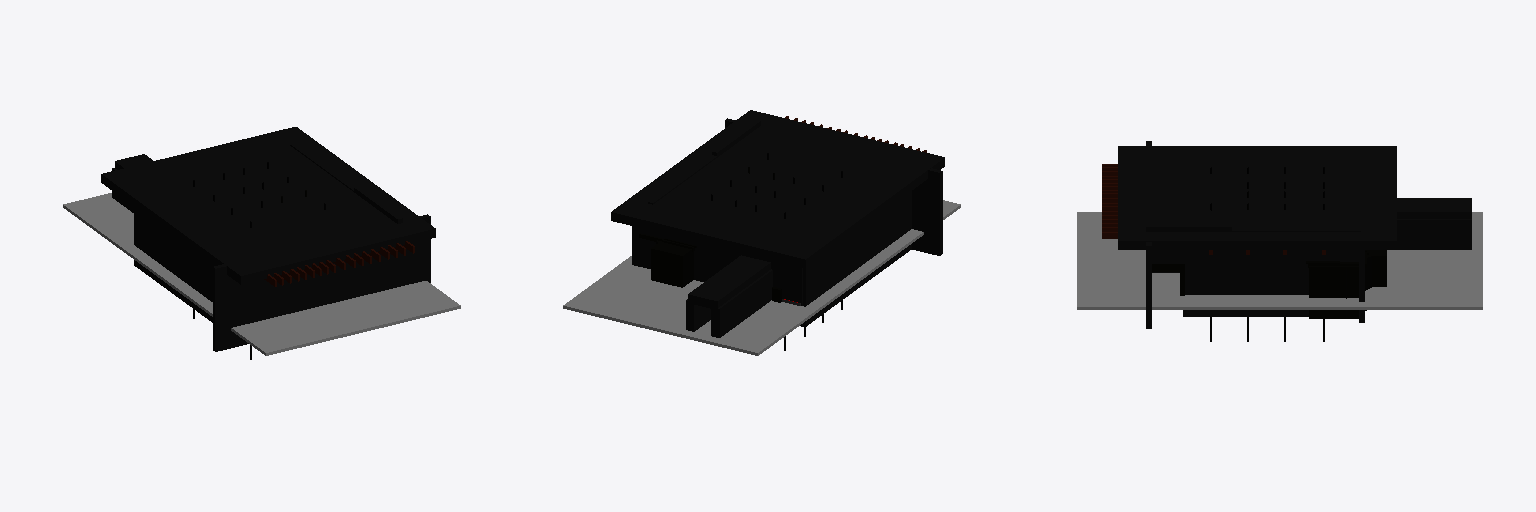
The model's file is Fleece.obj.
The picture shows the model from 3 angles: view 1: azimuth 30°, elevation 25°; view 2: azimuth 150°, elevation 25°; view 3: azimuth 270°, elevation 25°; orthographic projection.
Visible parts, largest first — view 1: pasted__pCube37 group120, pasted__pasted__pCube37 pasted__group120 group146, pasted__pasted__pCube36 pasted__group group1, pasted__pCube37 group2, pasted__pasted__pasted__pasted__pasted__Stage pasted__pasted__pa; view 2: pasted__pCube37 group120, pasted__pasted__pCube37 pasted__group120 group146, pasted__pCube37 group2, pasted__pasted__pCube36 pasted__group group1, pasted__pasted__pasted__pasted__pasted__pasted__pasted__pasted__, pasted__pasted__pasted__pasted__pasted__pasted__Stage pasted__pa, pasted__pCube36 group, pasted__pasted__pasted__pasted__Stage pasted__pasted__pasted__gr, pasted__pasted__pCube36 pasted__group group3, pasted__pasted__pasted__pasted__pasted__pasted__pasted__Stage pa; view 3: pasted__pCube37 group120, pasted__pasted__pCube37 pasted__group120 group146, pCube37, pasted__pasted__pasted__pasted__pasted__Stage pasted__pasted__pa, pasted__pasted__pasted__pasted__pasted__pasted__pasted__Stage pa, pasted__pasted__pasted__pasted__pasted__pasted__pasted__pasted__, pasted__pCube37 group5, pasted__pasted__pasted__pasted__Stage pasted__pasted__pasted__gr, pasted__pasted__pCube36 pasted__group group1.
Boxes of the visible parts, x1,y1,x2,y2 form: pasted__pCube37 group120: [101, 127, 435, 284]; pasted__pasted__pCube37 pasted__group120 group146: [63, 193, 460, 355]; pasted__pasted__pCube36 pasted__group group1: [213, 214, 430, 351]; pasted__pCube37 group2: [134, 207, 213, 322]; pasted__pasted__pasted__pasted__pasted__Stage pasted__pasted__pa: [274, 249, 380, 285]; pasted__pCube37 group120: [611, 110, 944, 267]; pasted__pasted__pCube37 pasted__group120 group146: [563, 200, 960, 355]; pasted__pCube37 group2: [803, 191, 911, 326]; pasted__pasted__pCube36 pasted__group group1: [725, 118, 942, 255]; pasted__pasted__pasted__pasted__pasted__pasted__pasted__pasted__: [688, 255, 770, 309]; pasted__pasted__pasted__pasted__pasted__pasted__Stage pasted__pa: [639, 122, 813, 337]; pasted__pCube36 group: [632, 226, 747, 281]; pasted__pasted__pasted__pasted__Stage pasted__pasted__pasted__gr: [651, 150, 926, 287]; pasted__pasted__pCube36 pasted__group group3: [763, 258, 802, 326]; pasted__pasted__pasted__pasted__pasted__pasted__pasted__Stage pa: [686, 116, 788, 331]; pasted__pCube37 group120: [1118, 146, 1396, 249]; pasted__pasted__pCube37 pasted__group120 group146: [1077, 212, 1482, 309]; pCube37: [1183, 228, 1360, 316]; pasted__pasted__pasted__pasted__pasted__Stage pasted__pasted__pa: [1102, 167, 1368, 318]; pasted__pasted__pasted__pasted__pasted__pasted__pasted__Stage pa: [1102, 219, 1471, 263]; pasted__pasted__pasted__pasted__pasted__pasted__pasted__pasted__: [1209, 198, 1471, 254]; pasted__pCube37 group5: [1146, 225, 1231, 267]; pasted__pasted__pasted__pasted__Stage pasted__pasted__pasted__gr: [1102, 164, 1386, 286]; pasted__pasted__pCube36 pasted__group group1: [1146, 141, 1151, 328].
Size of the model in its own units: 42.19 by 25.84 by 69.